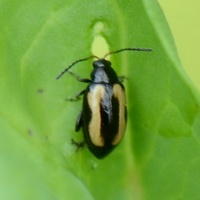insect: (56, 48, 151, 158)
